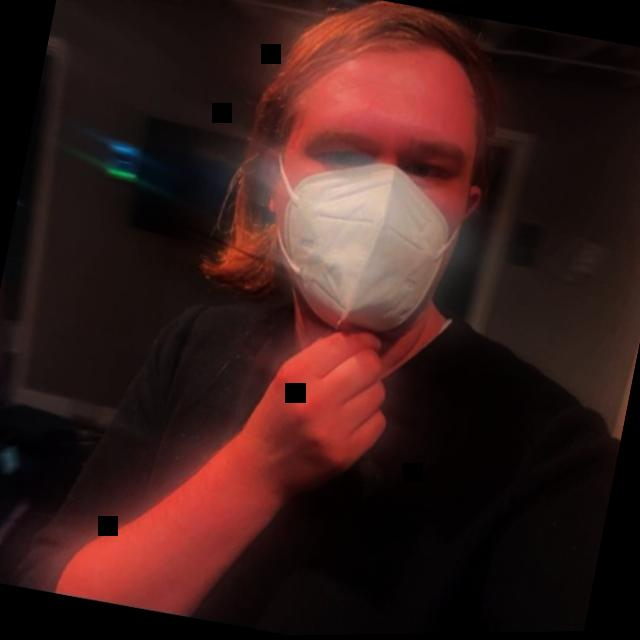Mask: (187, 0, 524, 368)
